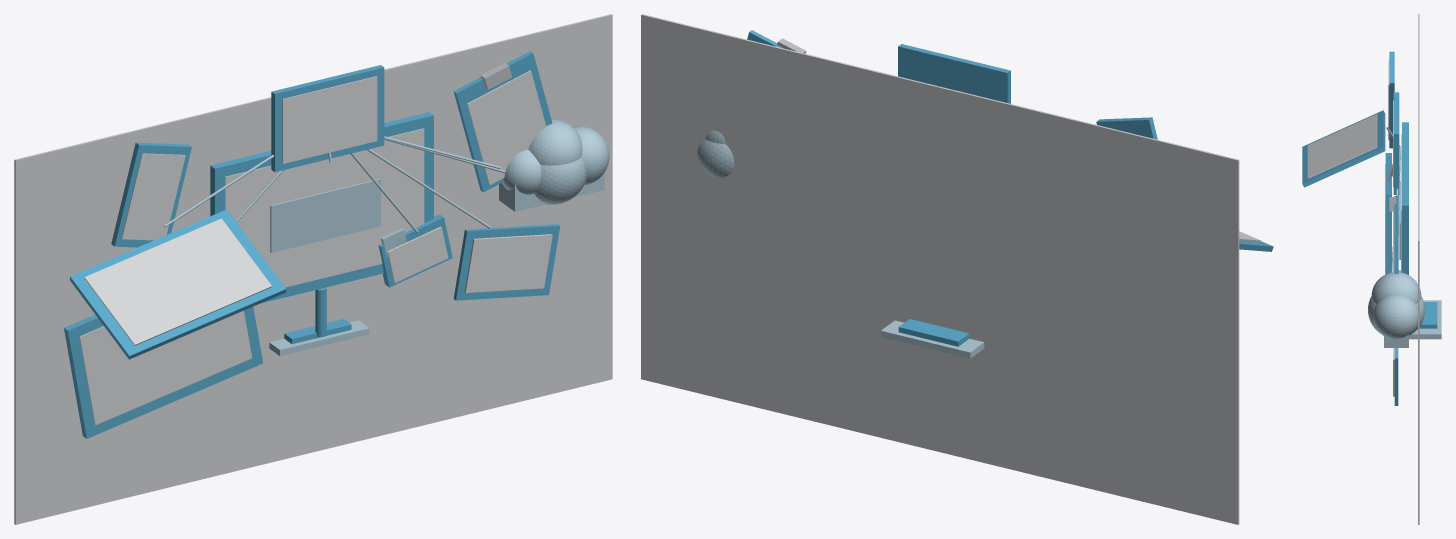
Rendered from api_isometric_scene.glb.
3 views of the same model, side by side, from view 1: azimuth 30°, elevation 25°; view 2: azimuth 150°, elevation 25°; view 3: azimuth 270°, elevation 25° (orthographic). The views are drawn at different scales.
Parts seen in each view (by area): view 1: ground, laptop, monitor, tablet, clipboard, cloud, document, phone, folder; view 2: ground, tablet, monitor, cloud, phone; view 3: laptop, cloud, monitor, ground, tablet, phone, clipboard, document.
Boxes of the visible parts, <box> form: ground: <box>14,14,612,524</box>; laptop: <box>64,209,286,438</box>; monitor: <box>210,112,433,356</box>; tablet: <box>271,65,384,171</box>; clipboard: <box>453,51,552,192</box>; cloud: <box>499,119,609,211</box>; document: <box>453,224,559,300</box>; phone: <box>111,142,191,247</box>; folder: <box>378,214,452,287</box>; ground: <box>641,14,1239,524</box>; tablet: <box>898,44,1010,103</box>; monitor: <box>880,319,984,358</box>; cloud: <box>697,130,733,177</box>; phone: <box>1096,117,1157,139</box>; laptop: <box>1302,110,1391,274</box>; cloud: <box>1368,272,1424,347</box>; monitor: <box>1399,122,1441,339</box>; ground: <box>1418,14,1419,524</box>; tablet: <box>1393,92,1399,194</box>; phone: <box>1388,51,1394,148</box>; clipboard: <box>1389,196,1398,274</box>; document: <box>1393,348,1398,405</box>.
Size of the model in its own units: 6 by 3.67 by 1.56.
